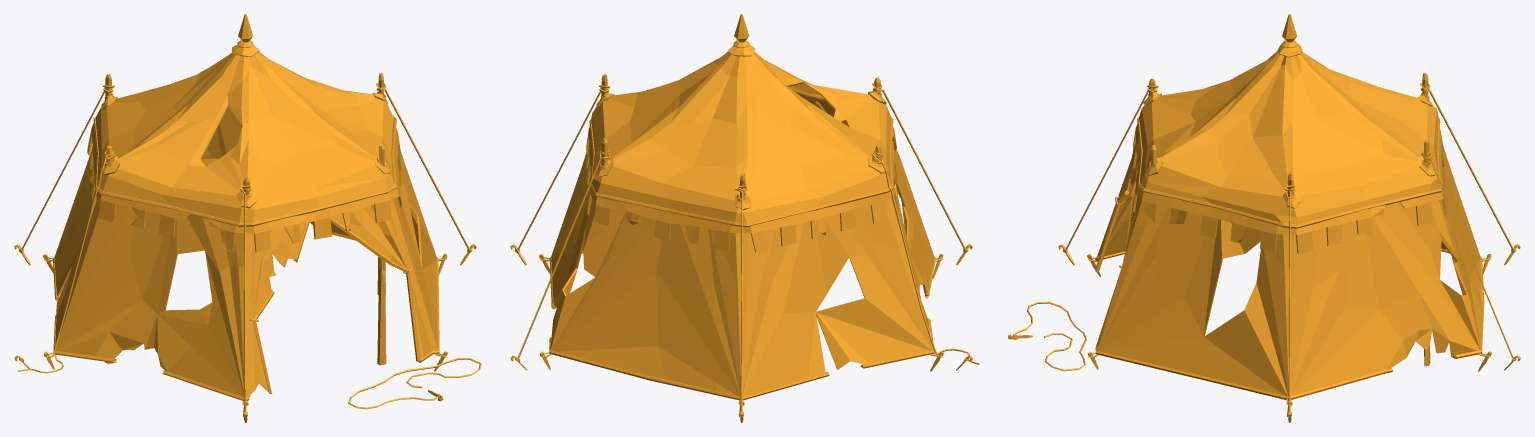
The model's file is SM_Tent_Hexagon_Plain_Damaged_Fantasy.fbx.
3 renders of one model, left to right at view 1: azimuth 30°, elevation 25°; view 2: azimuth 150°, elevation 25°; view 3: azimuth 270°, elevation 25°, orthographic.
Parts seen in each view (by area): view 1: tent-hexagon-plain-damaged-fantasy; view 2: tent-hexagon-plain-damaged-fantasy; view 3: tent-hexagon-plain-damaged-fantasy.
Part boxes in pixels (x1,y1,x2,y2): tent-hexagon-plain-damaged-fantasy: (14,14,481,422); tent-hexagon-plain-damaged-fantasy: (510,14,979,422); tent-hexagon-plain-damaged-fantasy: (1008,14,1520,422).
Bounding box in the file's own units: 8.11 × 5.31 × 7.78.
